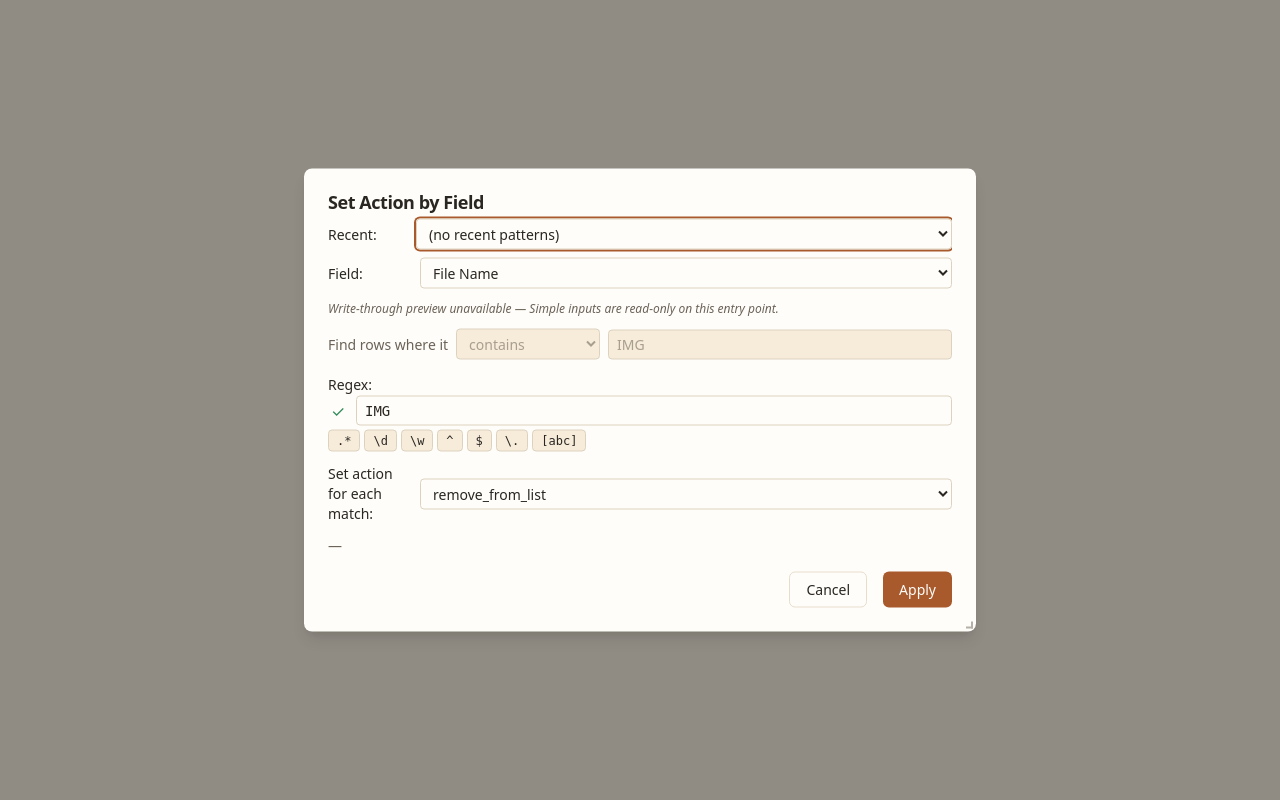
ActionDialog › Apply to Unlocked Only is disabled when all matched rows are locked
The image size is (1280, 800).
Click the button with test id "action-btn-apply" at {"x": 918, "y": 590}, box x1=883 y1=572 x2=952 y2=608
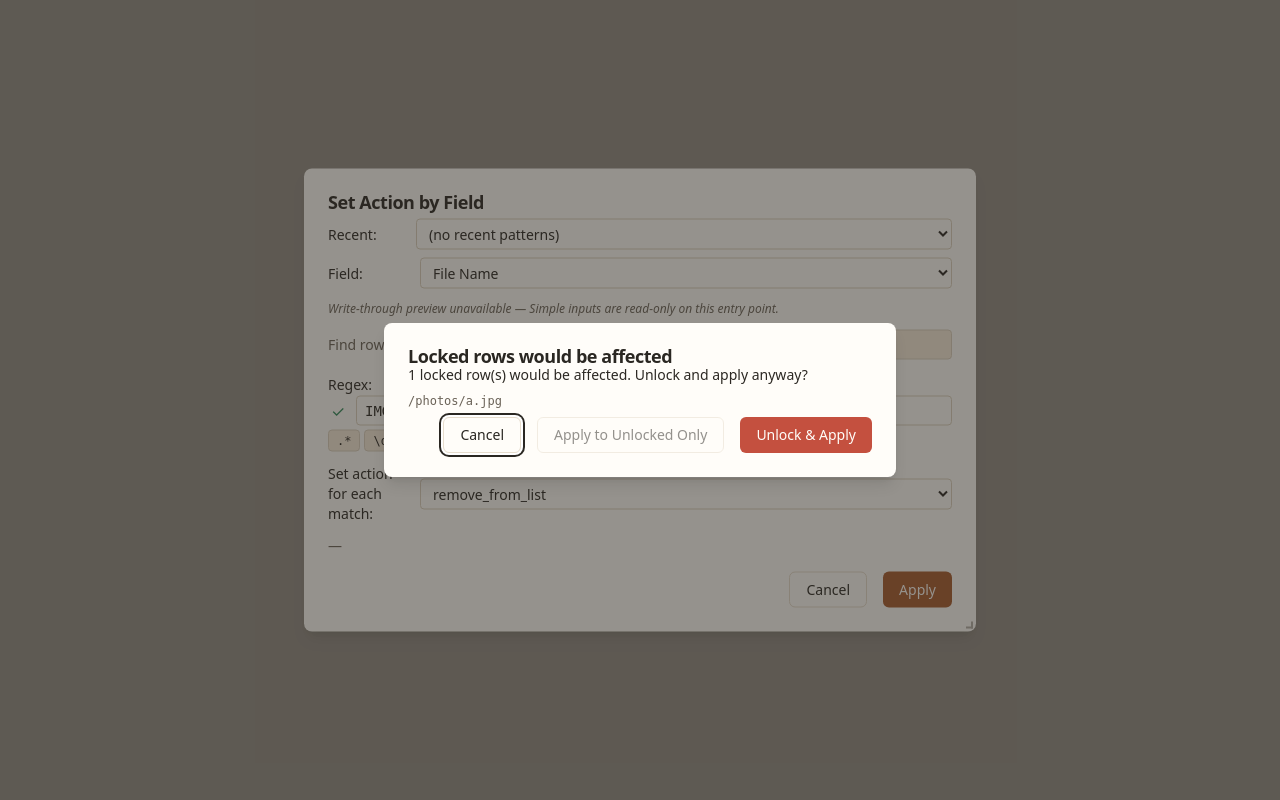
Result: the dialog with test id "action-lock-confirm-dialog" is shown at x1=384 y1=323 x2=896 y2=477
Result: the button with test id "action-lock-confirm-btn-unlocked-only" is disabled at x1=537 y1=417 x2=724 y2=453
